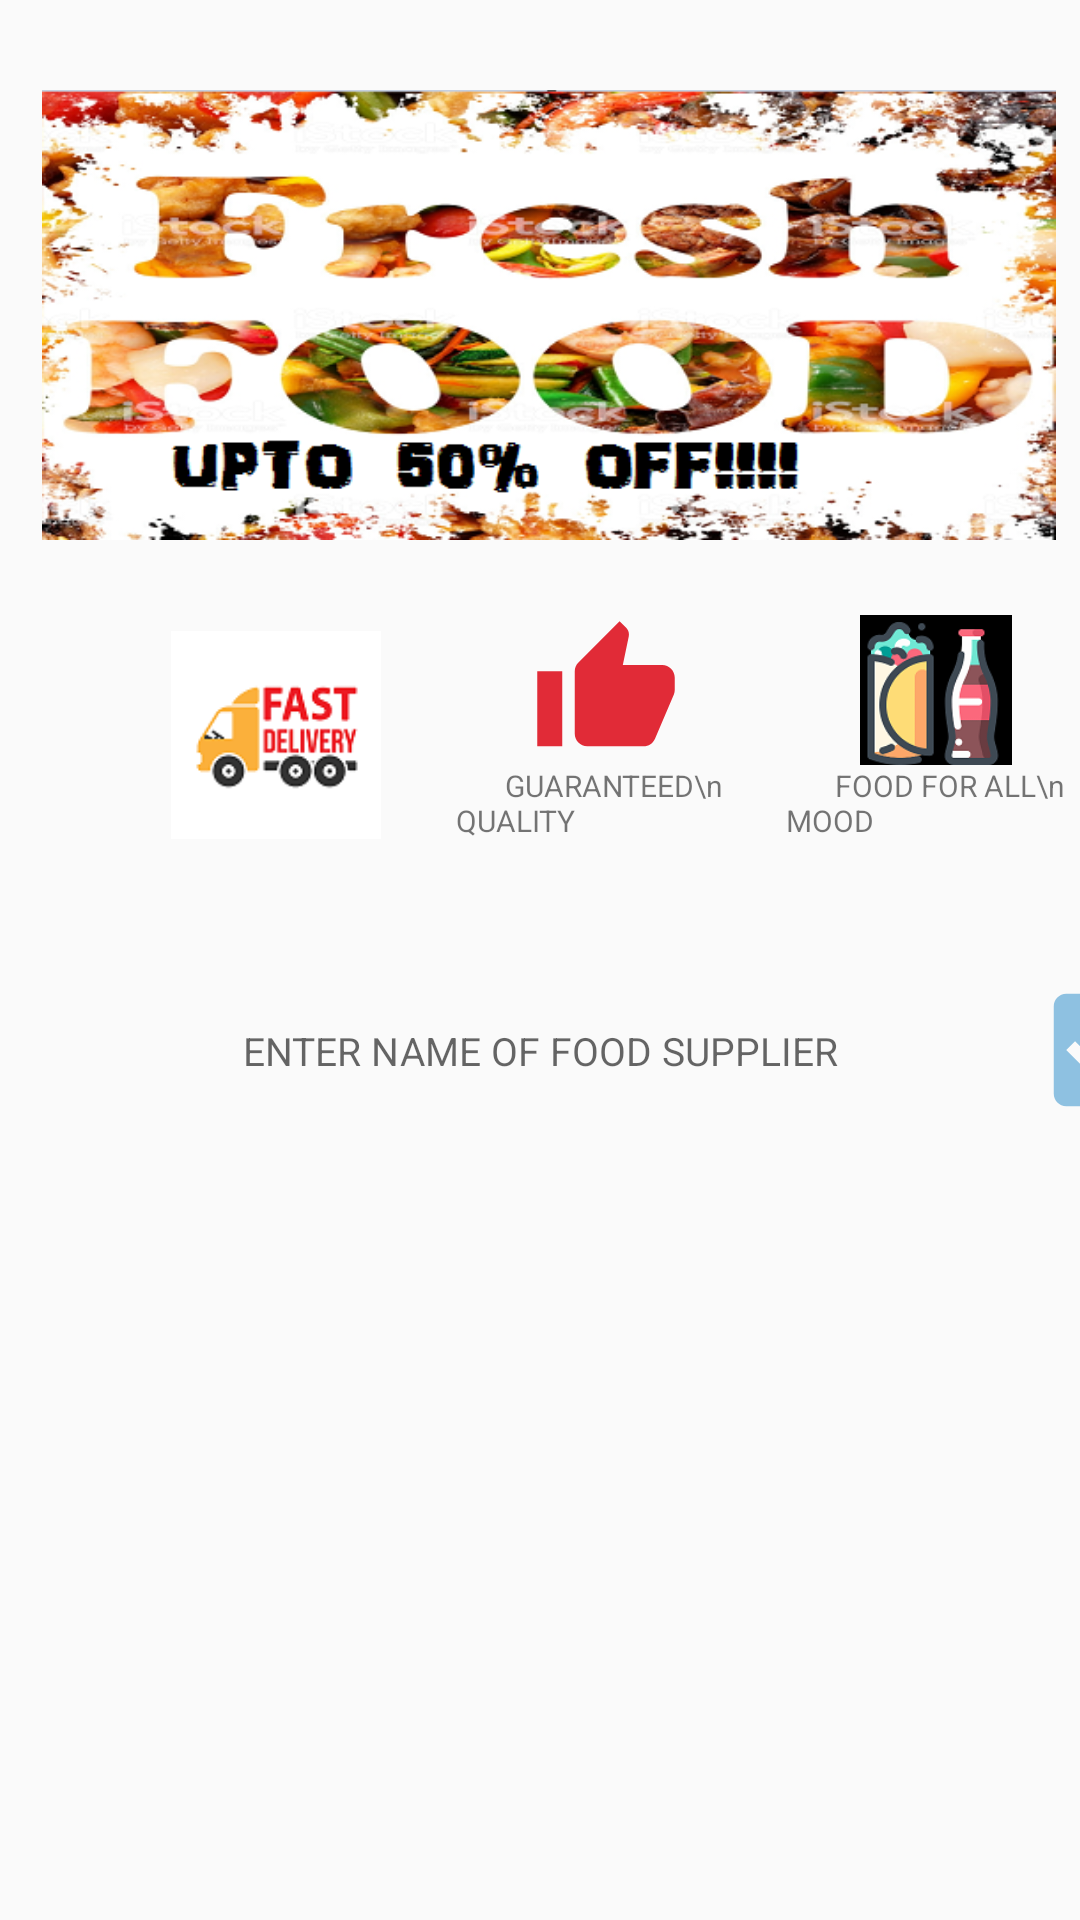

Screen size 1080w x 1920h. Icon name, then its box in pixels as [x1,y1,x2,y2]:
delicious: [860,615,1012,765]
thumb up: [537,621,675,747]
